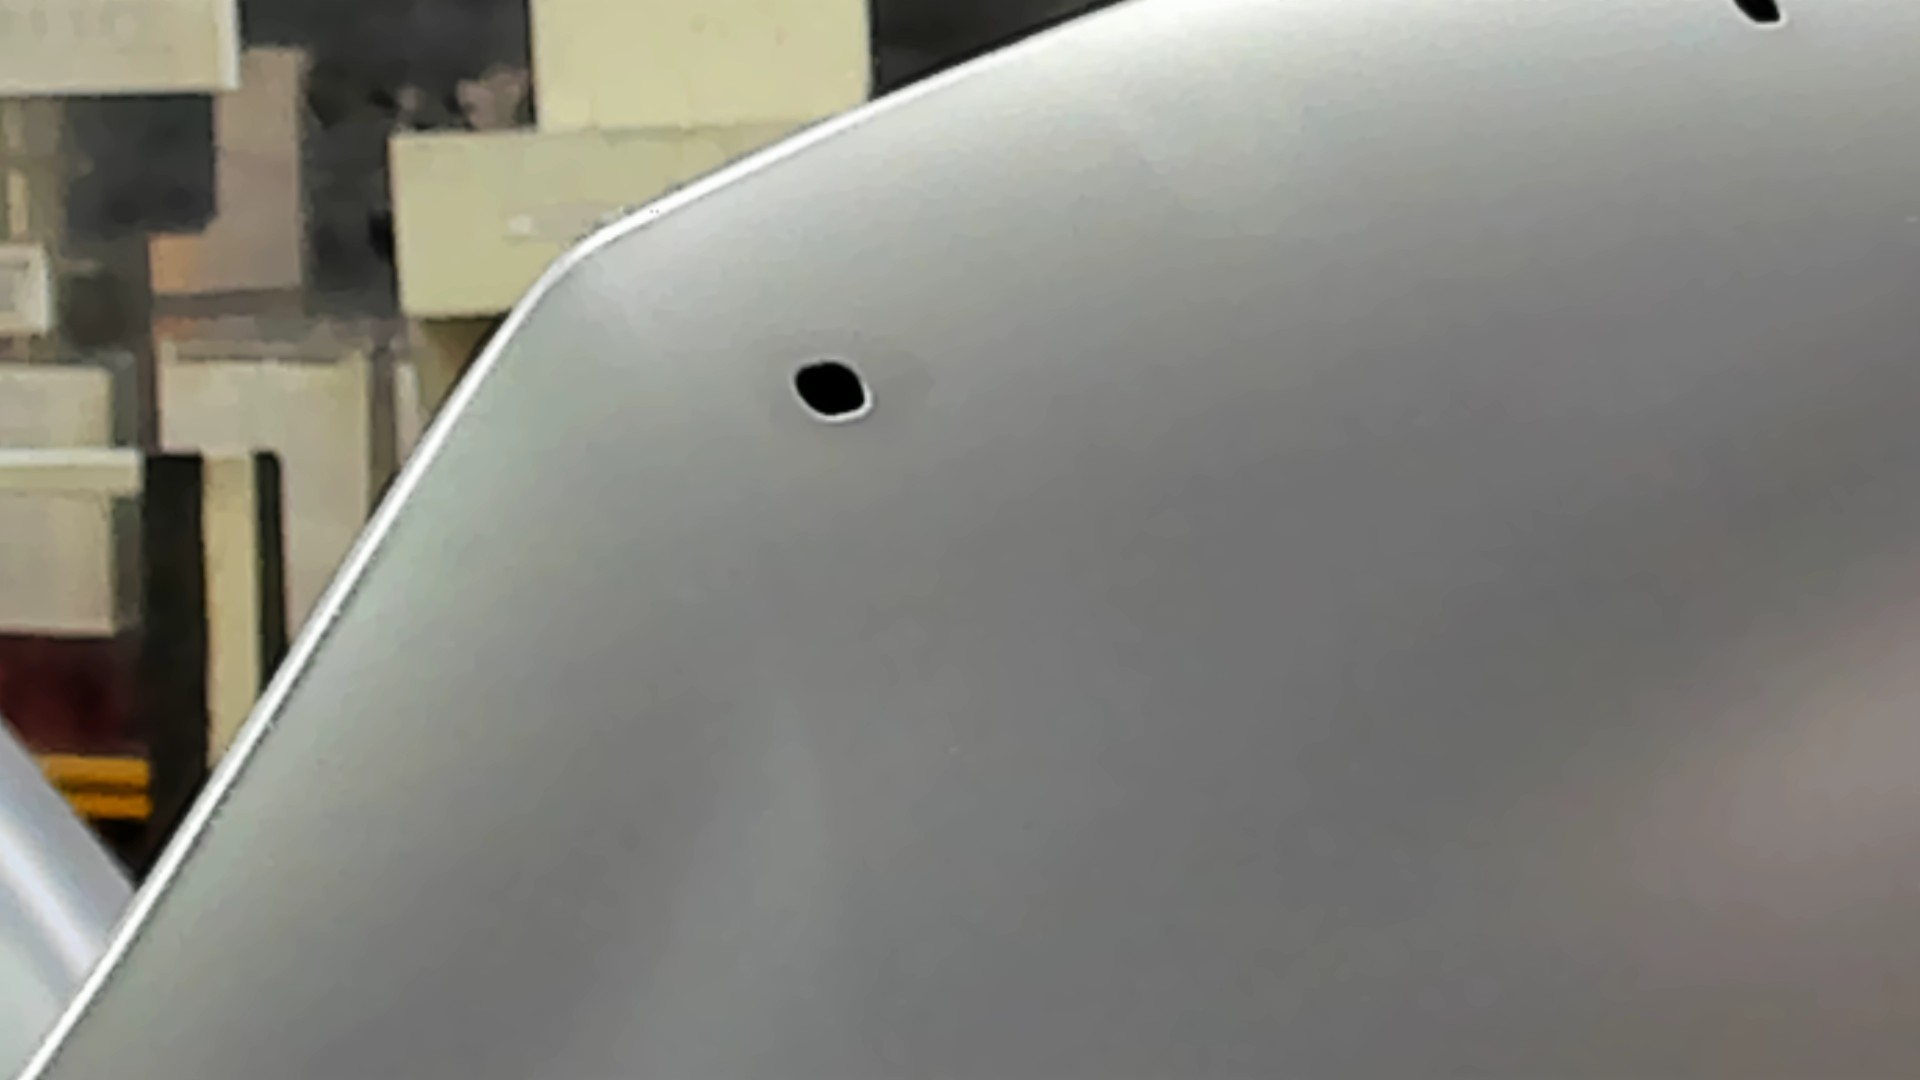amorfo: (787, 353, 877, 431), (1730, 1, 1793, 29)
capo: (969, 83, 1920, 1080)
